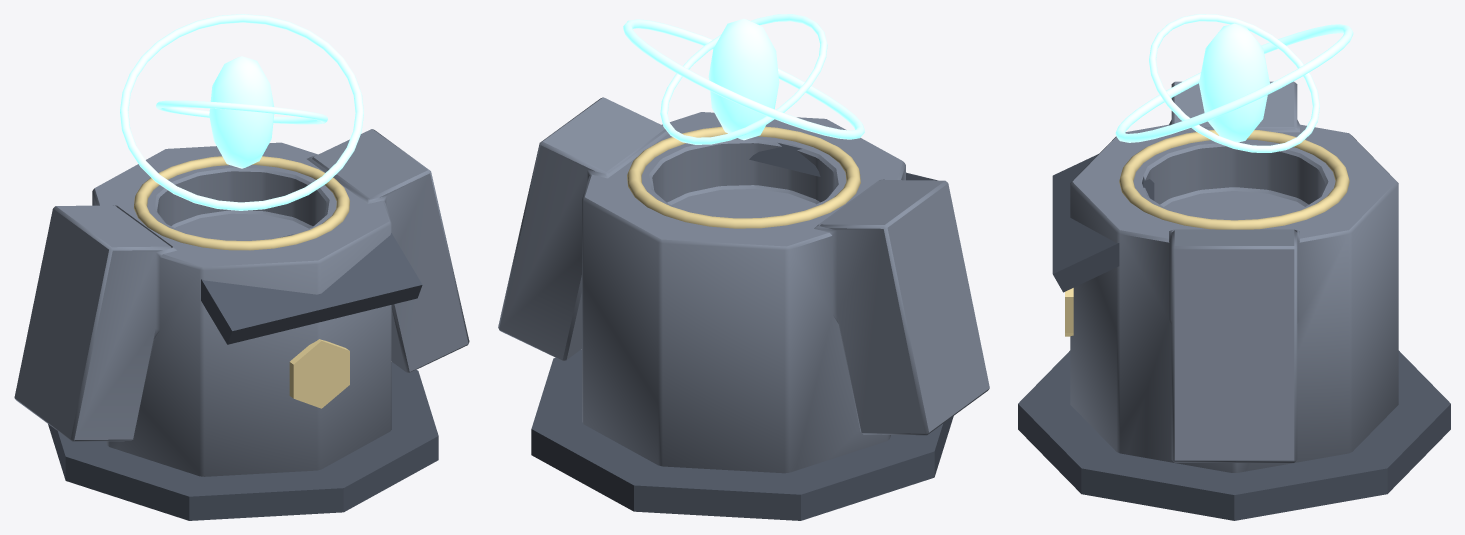
File: hunter-gate-holo-terminal-v12.glb
3 renders of one model, left to right at view 1: azimuth 30°, elevation 25°; view 2: azimuth 150°, elevation 25°; view 3: azimuth 270°, elevation 25°, orthographic. The views are drawn at different scales.
Visible parts, largest first — view 1: TitaniumConsoleBody, CarbonControlDeck, HoloScannerEmitter, GuildGoldEmblem; view 2: TitaniumConsoleBody, CarbonControlDeck, HoloScannerEmitter, GuildGoldEmblem; view 3: TitaniumConsoleBody, CarbonControlDeck, HoloScannerEmitter, GuildGoldEmblem.
Part boxes in pixels (left/top/right/bottom): TitaniumConsoleBody: left=14, top=129, right=469, bottom=476; CarbonControlDeck: left=48, top=233, right=438, bottom=520; HoloScannerEmitter: left=120, top=14, right=363, bottom=210; GuildGoldEmblem: left=134, top=156, right=349, bottom=408; TitaniumConsoleBody: left=498, top=97, right=989, bottom=473; CarbonControlDeck: left=531, top=143, right=953, bottom=520; HoloScannerEmitter: left=623, top=14, right=864, bottom=144; GuildGoldEmblem: left=627, top=126, right=860, bottom=228; TitaniumConsoleBody: left=1070, top=81, right=1398, bottom=472; CarbonControlDeck: left=1018, top=154, right=1450, bottom=520; HoloScannerEmitter: left=1115, top=14, right=1353, bottom=152; GuildGoldEmblem: left=1065, top=129, right=1349, bottom=336.
Size of the model in its own units: 1.72 by 1.57 by 1.52.
